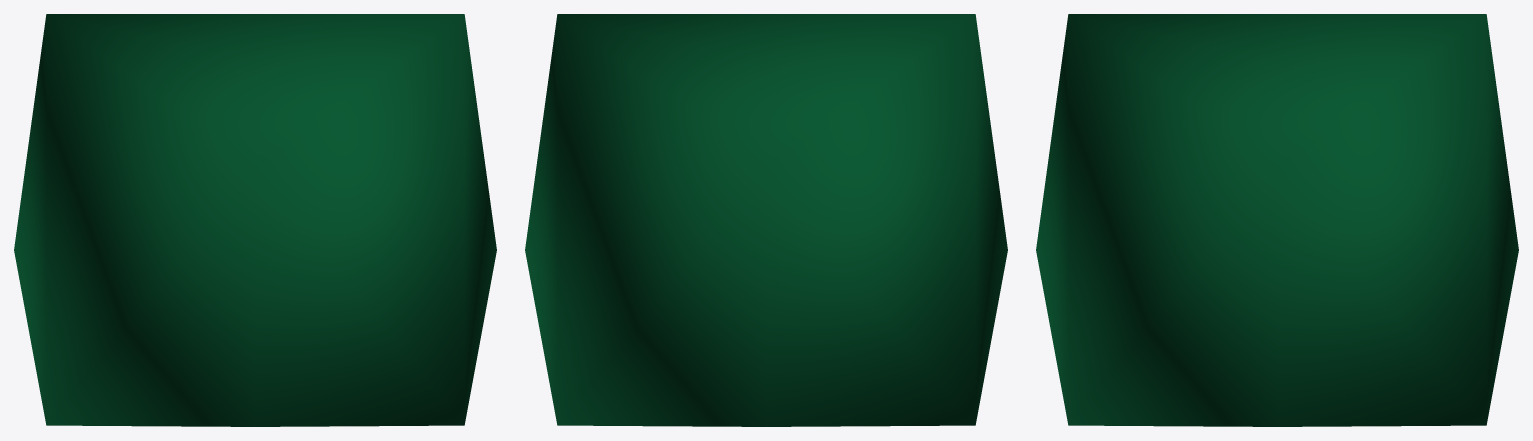
The model's file is Bush5.fbx.
3 views of the same model, side by side, from view 1: azimuth 30°, elevation 25°; view 2: azimuth 150°, elevation 25°; view 3: azimuth 270°, elevation 25° (orthographic).
Parts seen in each view (by area): view 1: Bush5; view 2: Bush5; view 3: Bush5.
Part boxes in pixels (x1=…): Bush5: x1=14, y1=14, x2=496, y2=426; Bush5: x1=525, y1=14, x2=1007, y2=426; Bush5: x1=1036, y1=14, x2=1518, y2=426.
Bounding box in the file's own units: 37.52 × 24.76 × 34.82.
